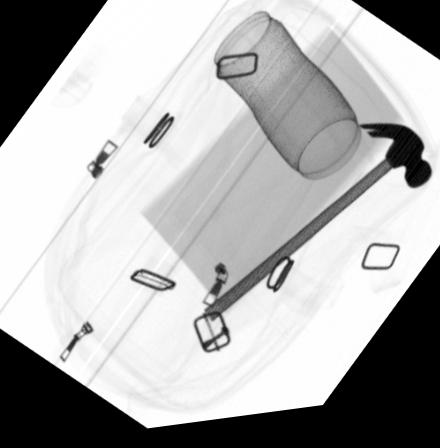Hammer: (202, 131, 432, 327)
